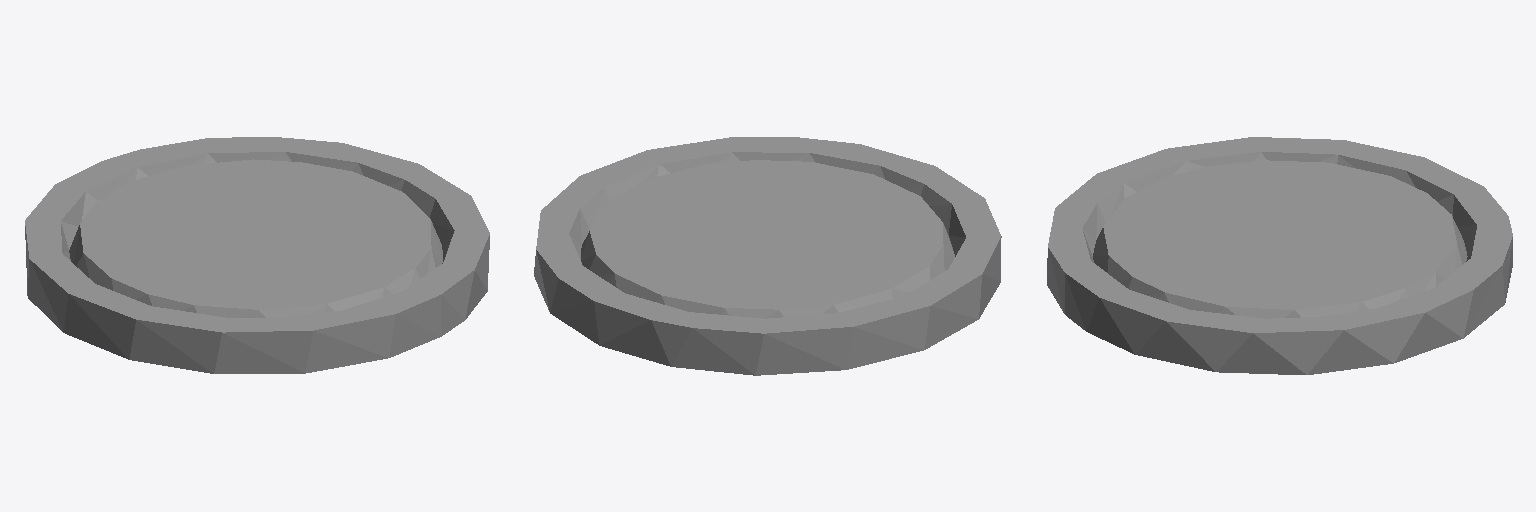
File: Puck4.obj
The picture shows the model from 3 angles: view 1: azimuth 30°, elevation 25°; view 2: azimuth 150°, elevation 25°; view 3: azimuth 270°, elevation 25°; orthographic projection.
Visible parts, largest first — view 1: Cylinder_Cylinder.000; view 2: Cylinder_Cylinder.000; view 3: Cylinder_Cylinder.000.
Boxes of the visible parts, box(x1,y1,x2,y2) form: Cylinder_Cylinder.000: box(25, 137, 489, 373); Cylinder_Cylinder.000: box(534, 137, 1001, 375); Cylinder_Cylinder.000: box(1047, 137, 1512, 374).
Bounding box in the file's own units: 1.25 × 0.1254 × 1.25.